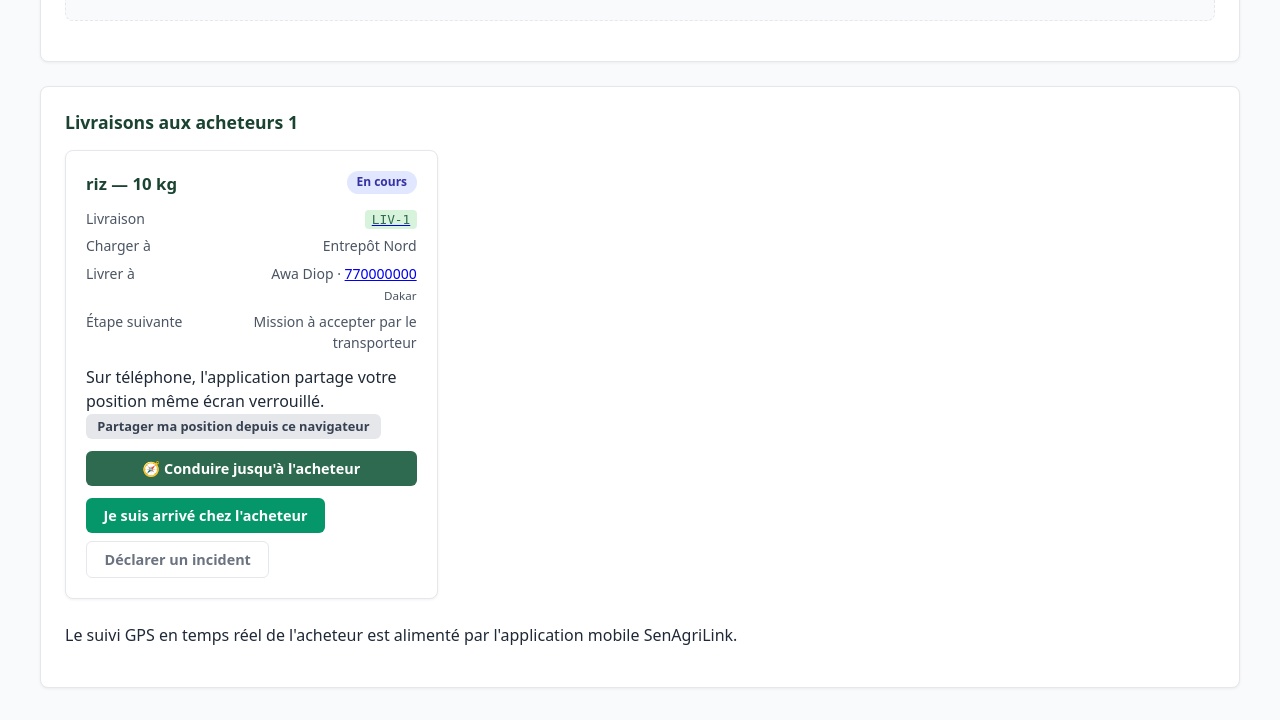
Test case: TransporteurMissionsComponent — missions assignées › incident : type et description obligatoires, envoyé à l'entrepôt
(page scrolled)
Click the button "Déclarer un incident": (178, 560) [86, 541, 270, 578]
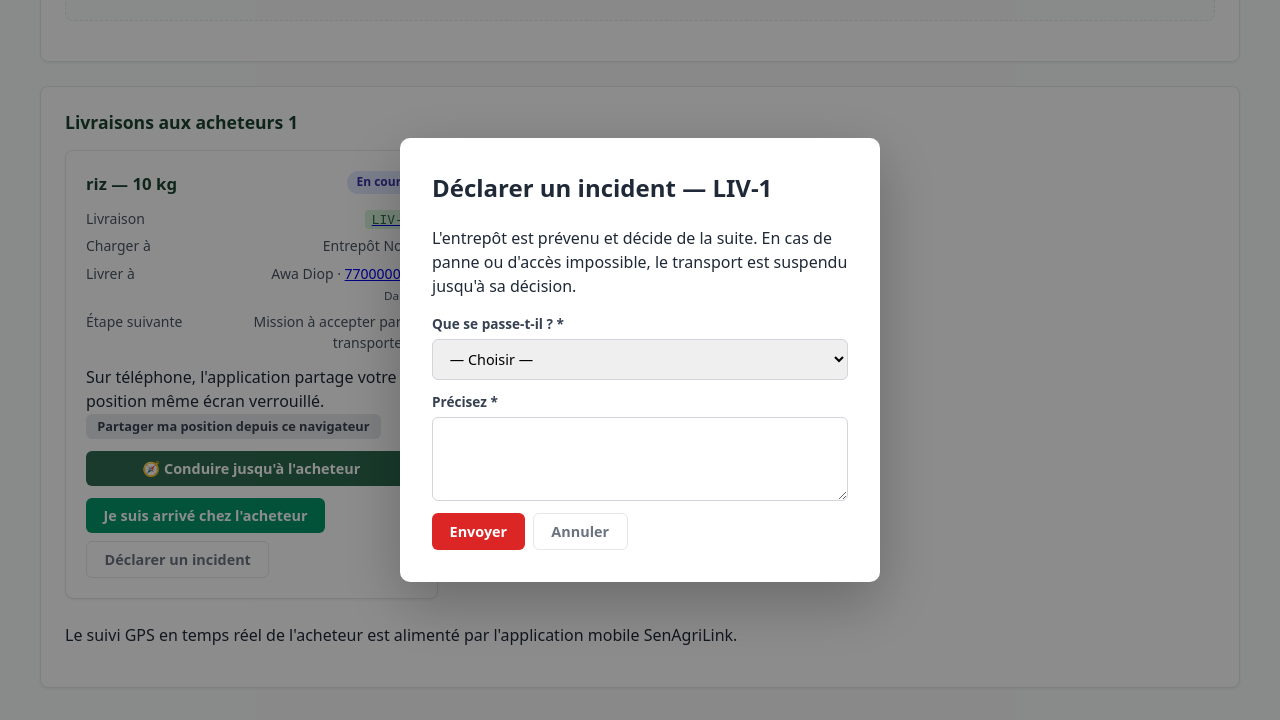
Click the button "Envoyer": (478, 532) [432, 513, 525, 550]
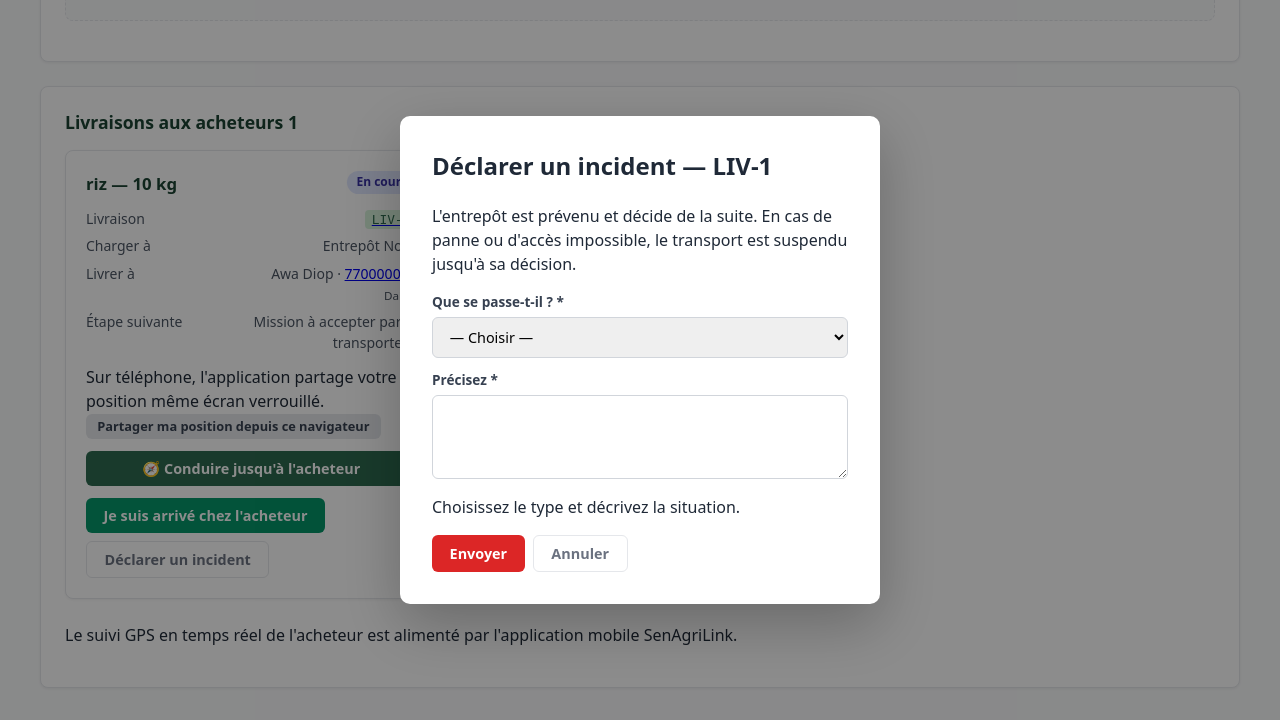
Check: the text "Choisissez le type" is shown, box [432, 496, 740, 518]
Select "Panne du véhicule" in the dropdown with id "type-incident": (640, 337) [432, 317, 848, 358]
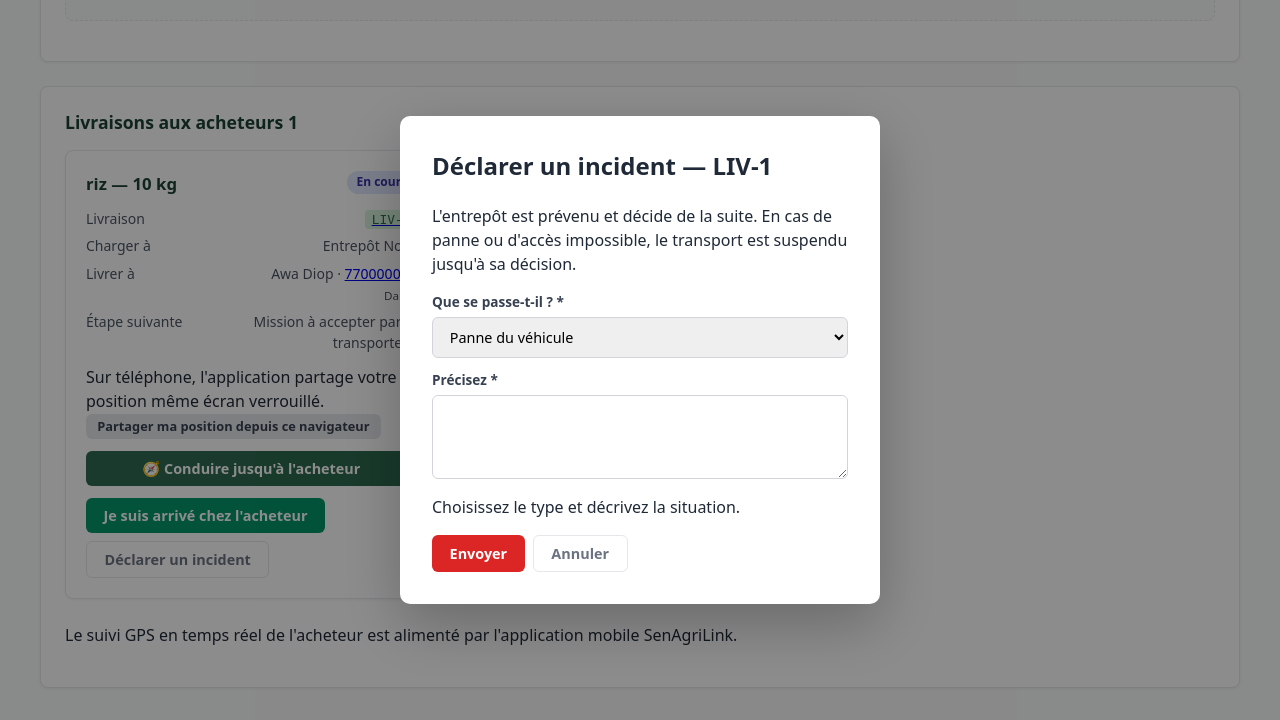
In the text box with id "description-incident": (640, 437) [432, 395, 848, 479], type "Pneu crevé"
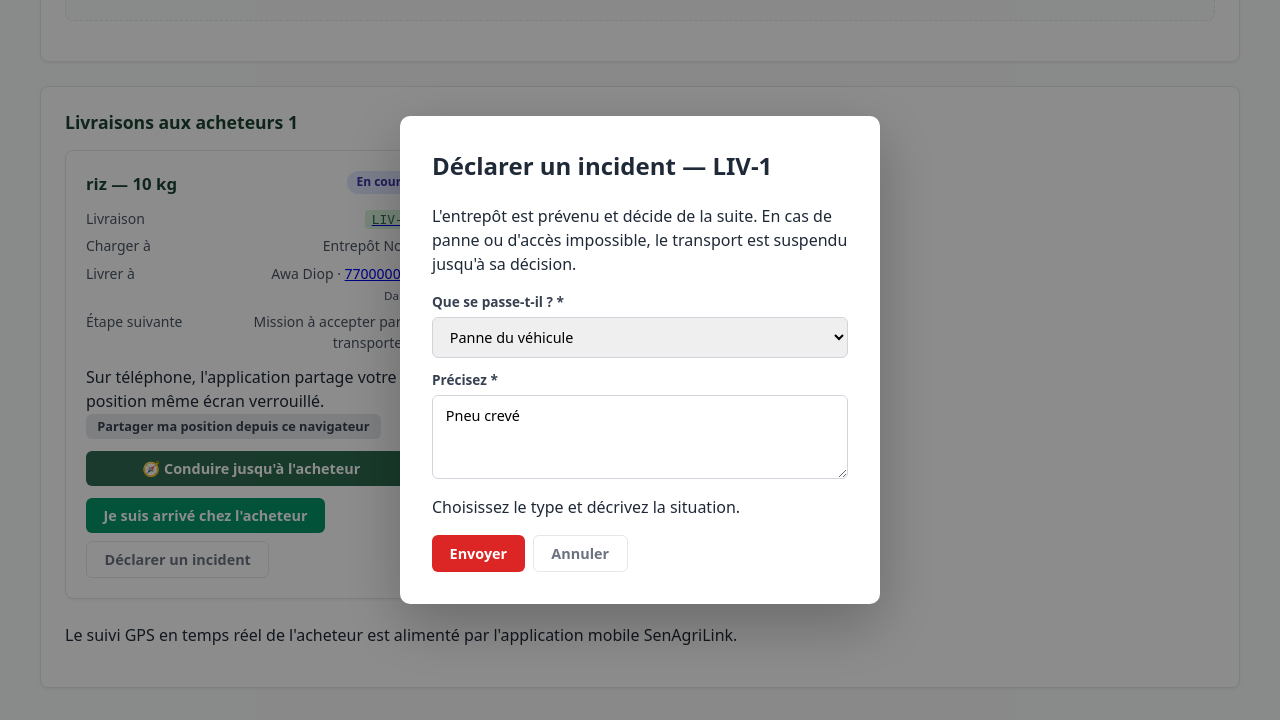
Click the button "Envoyer": (478, 554) [432, 535, 525, 572]
(page scrolled)
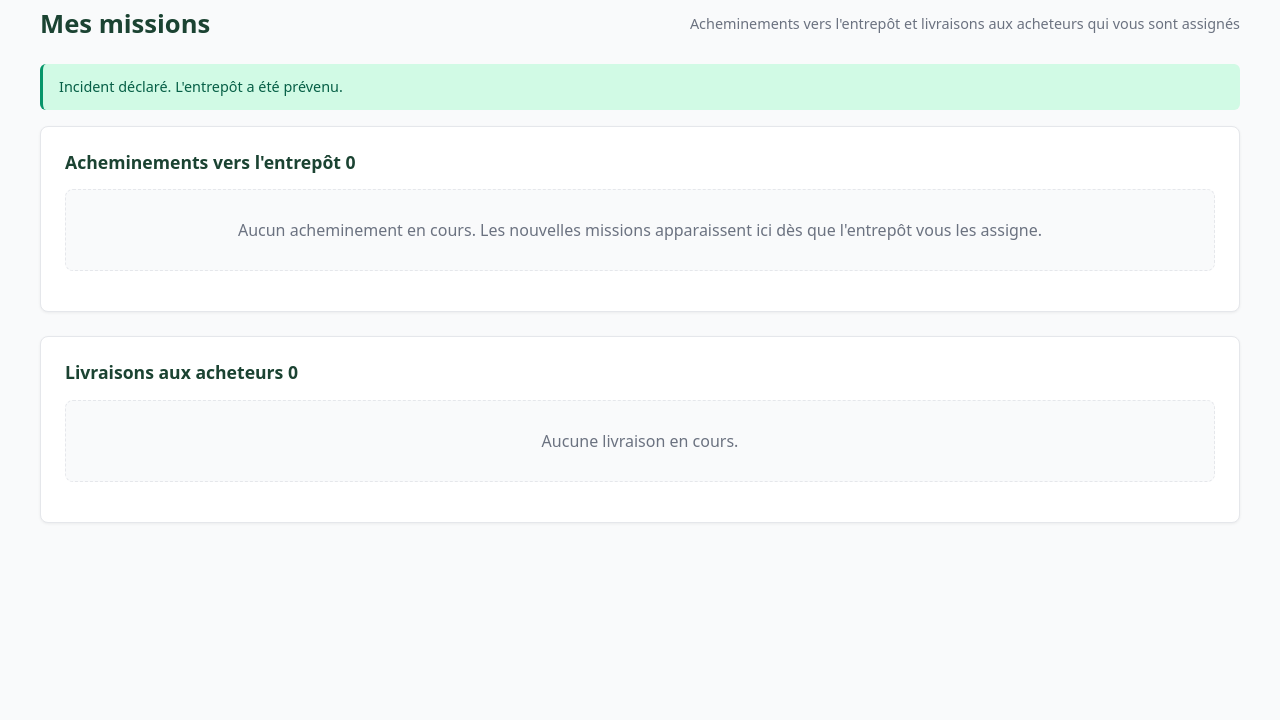
Check: the dialog with class "modal-box" is gone
